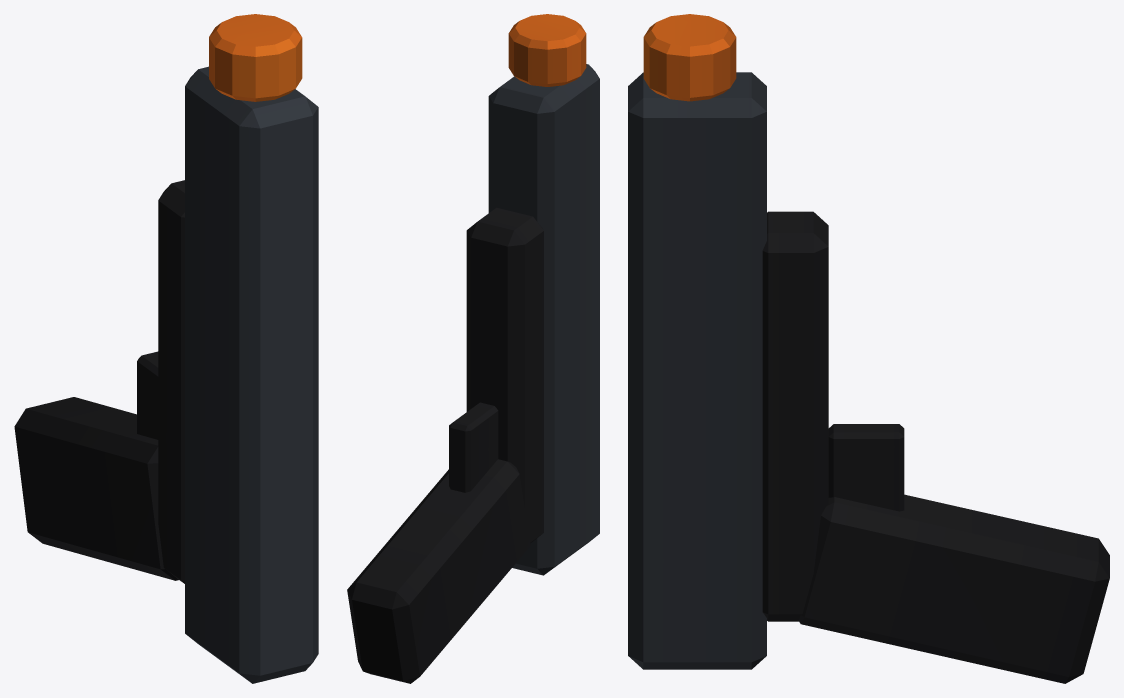
The model's file is hawk50.glb.
3 renders of one model, left to right at view 1: azimuth 30°, elevation 25°; view 2: azimuth 150°, elevation 25°; view 3: azimuth 270°, elevation 25°, orthographic. The views are drawn at different scales.
Parts seen in each view (by area): view 1: hawk50; view 2: hawk50; view 3: hawk50.
Part boxes in pixels (left/top/right/bottom): hawk50: left=14, top=14, right=318, bottom=683; hawk50: left=347, top=14, right=599, bottom=683; hawk50: left=628, top=14, right=1109, bottom=683.
Bounding box in the file's own units: 0.0368 × 0.2807 × 0.1909.
